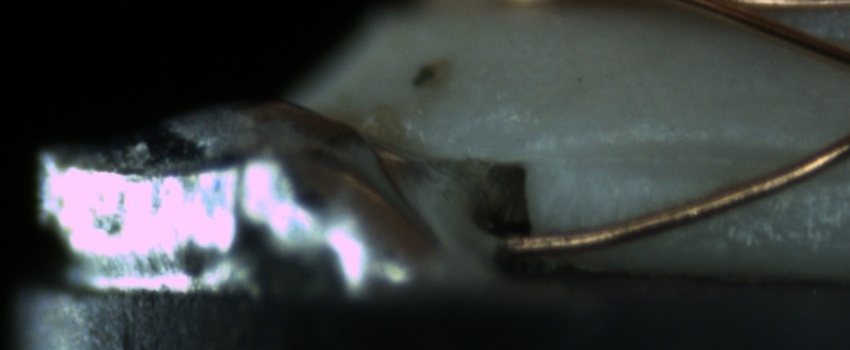DL: (550, 117, 825, 195)
